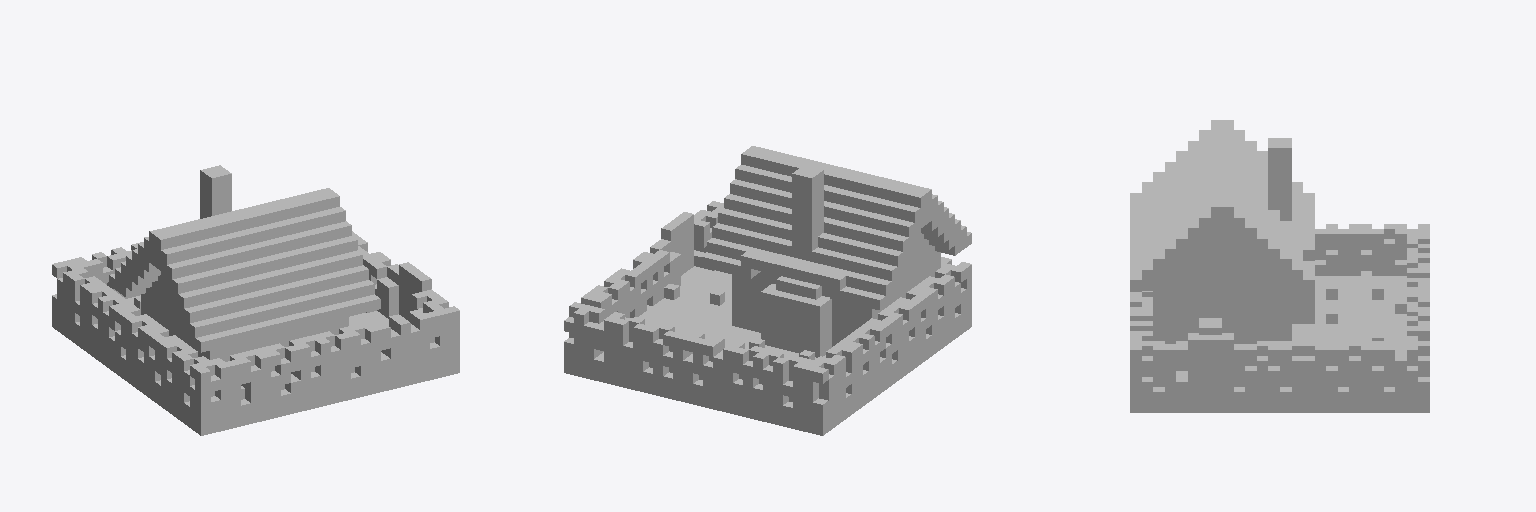
Rendered from house3.obj.
3 renders of one model, left to right at view 1: azimuth 30°, elevation 25°; view 2: azimuth 150°, elevation 25°; view 3: azimuth 270°, elevation 25°, orthographic.
Visible parts, largest first — view 1: object 1; view 2: object 1; view 3: object 1.
Boxes of the visible parts, x1=… form: object 1: x1=52, y1=165, x2=459, y2=435; object 1: x1=564, y1=146, x2=971, y2=435; object 1: x1=1130, y1=120, x2=1429, y2=412.
Bounding box in the file's own units: 2.6 × 1.8 × 2.6.